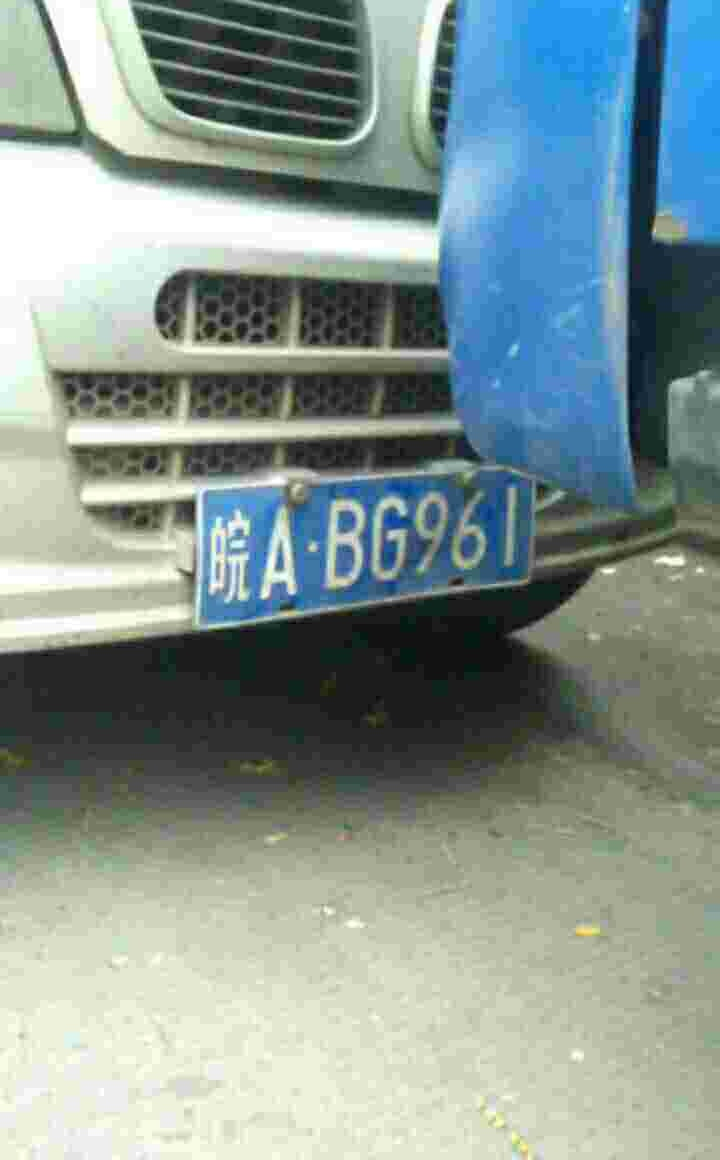car: (201, 476, 539, 598)
